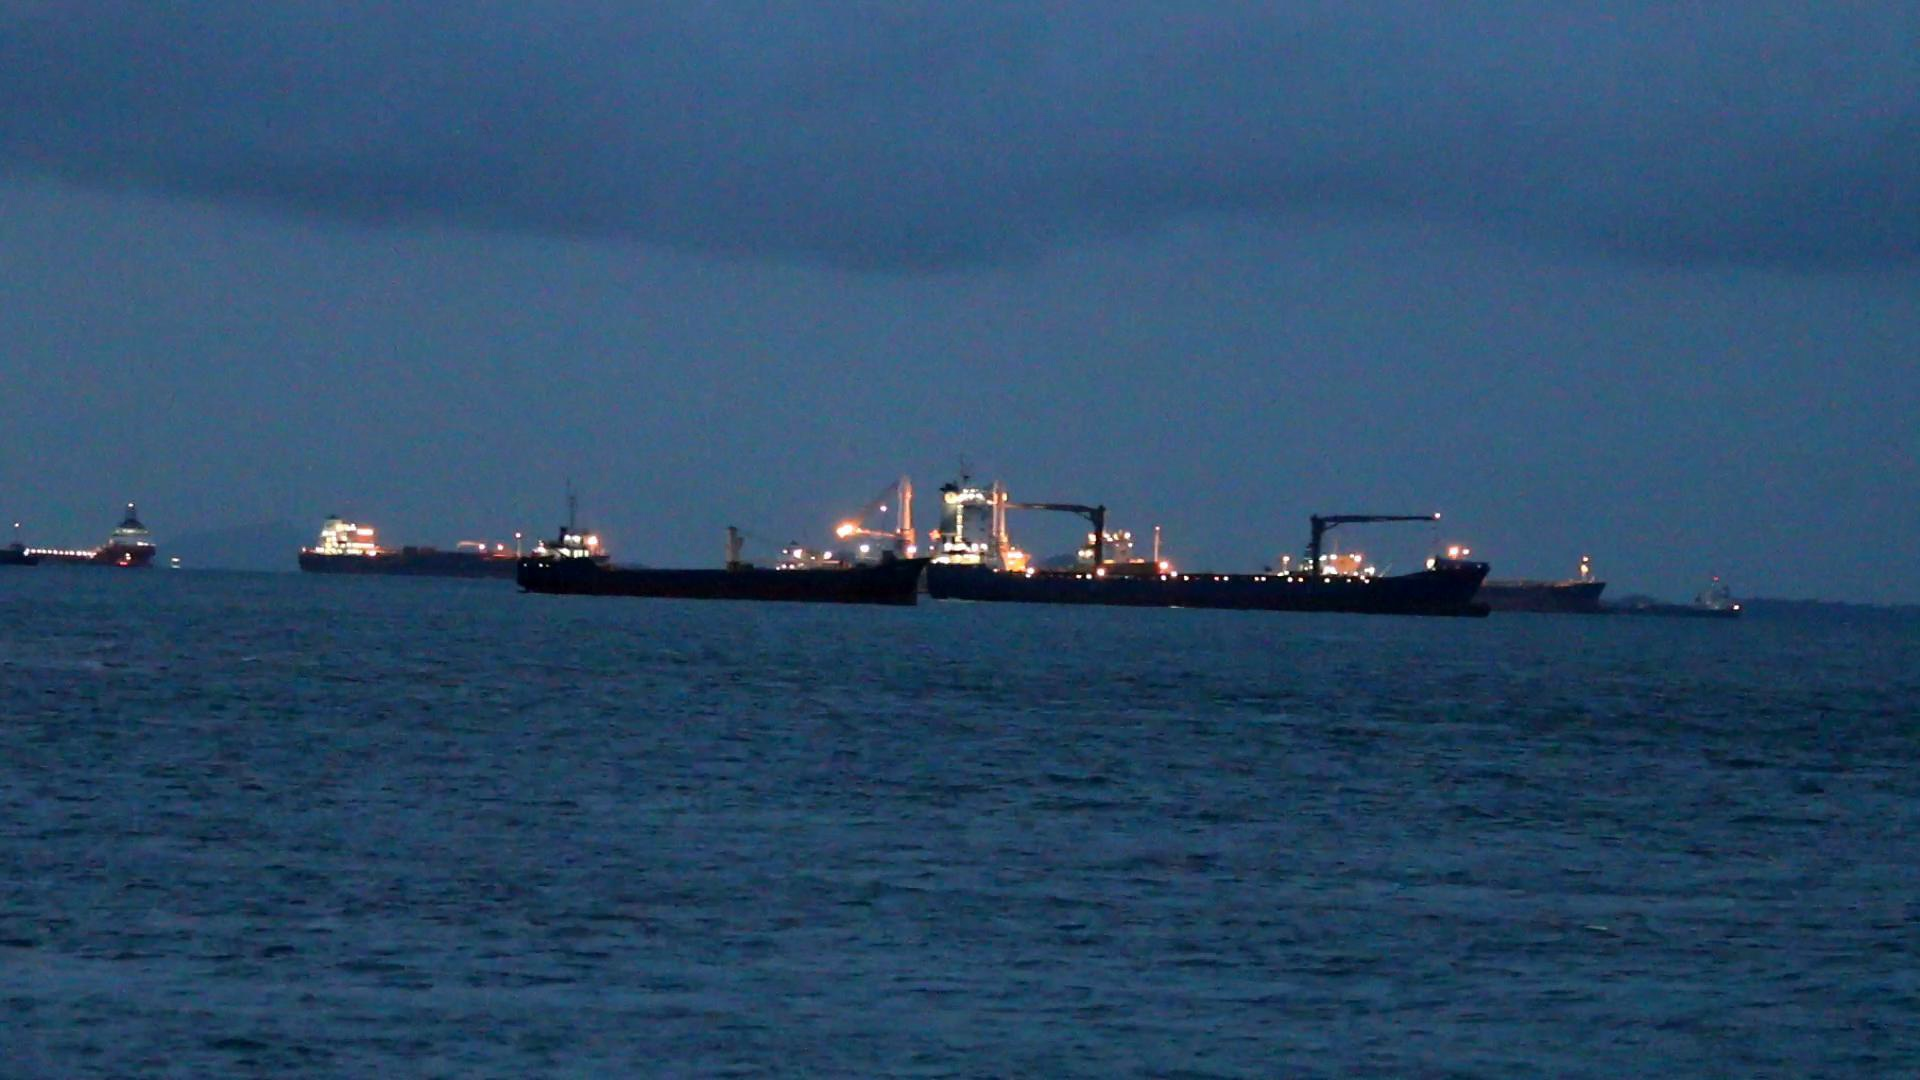Container Ship: (922, 472, 1490, 615), (510, 471, 922, 600), (293, 508, 512, 575), (4, 502, 154, 568), (1478, 549, 1605, 615), (1596, 580, 1749, 620), (112, 550, 146, 571)
